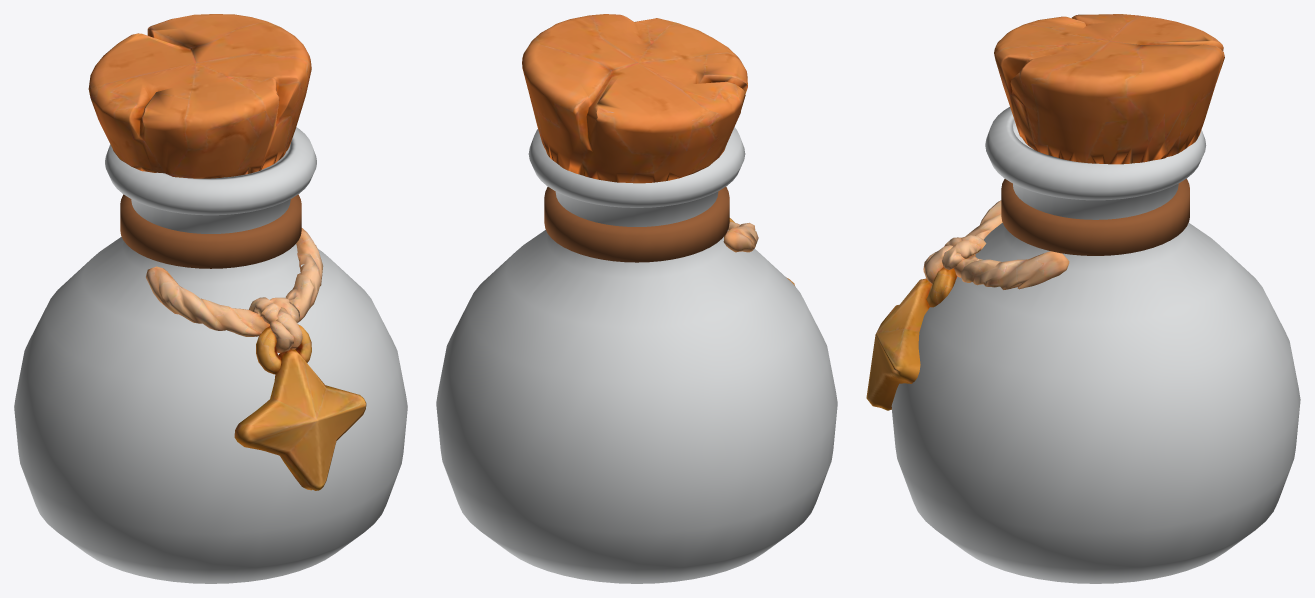
The model's file is potion-bottle.web.glb.
3 renders of one model, left to right at view 1: azimuth 30°, elevation 25°; view 2: azimuth 150°, elevation 25°; view 3: azimuth 270°, elevation 25°, orthographic. The views are drawn at different scales.
Visible parts, largest first — view 1: GlassShell, CorkStopper, CordAndStar, LeatherNeckBand; view 2: GlassShell, CorkStopper, LeatherNeckBand, CordAndStar; view 3: GlassShell, CorkStopper, CordAndStar, LeatherNeckBand.
Part boxes in pixels (x1=…): GlassShell: x1=14, y1=127, x2=407, y2=583; CorkStopper: x1=88, y1=14, x2=311, y2=178; CordAndStar: x1=146, y1=228, x2=366, y2=490; LeatherNeckBand: x1=120, y1=194, x2=301, y2=268; GlassShell: x1=436, y1=127, x2=837, y2=583; CorkStopper: x1=522, y1=14, x2=747, y2=183; LeatherNeckBand: x1=544, y1=187, x2=729, y2=262; CordAndStar: x1=723, y1=218, x2=794, y2=285; GlassShell: x1=891, y1=107, x2=1300, y2=583; CorkStopper: x1=994, y1=14, x2=1224, y2=164; CordAndStar: x1=866, y1=200, x2=1069, y2=410; LeatherNeckBand: x1=1001, y1=178, x2=1189, y2=255.
Size of the model in its own units: 0.178 by 0.236 by 0.1886.
5 materials, 1 textured.
